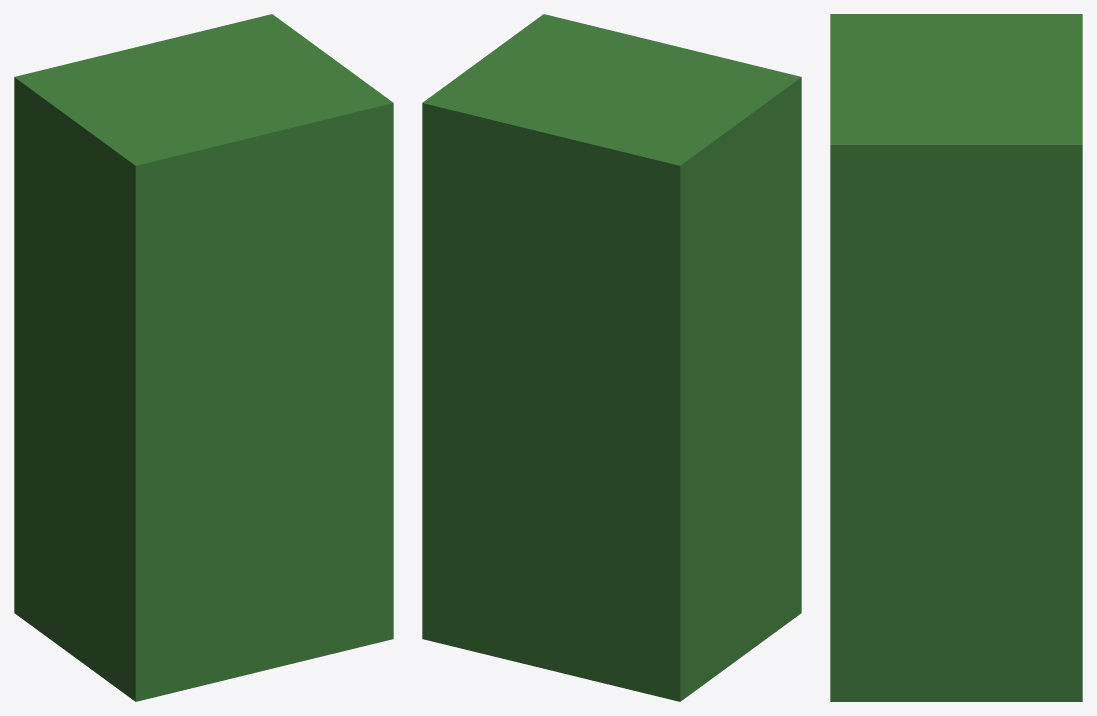
File: Closet.fbx
The picture shows the model from 3 angles, left to right: view 1: azimuth 30°, elevation 25°; view 2: azimuth 150°, elevation 25°; view 3: azimuth 270°, elevation 25°; orthographic projection. The views are drawn at different scales.
Parts seen in each view (by area): view 1: Closet; view 2: Closet; view 3: Closet.
Boxes of the visible parts, x1,y1,x2,y2 form: Closet: (14,14,393,701); Closet: (422,14,801,701); Closet: (830,14,1082,701).
Size of the model in its own units: 117 by 233 by 95.72.
